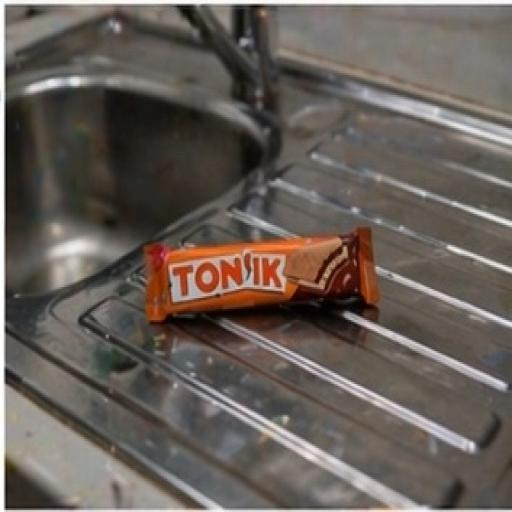tonik: (74, 134, 460, 383)
